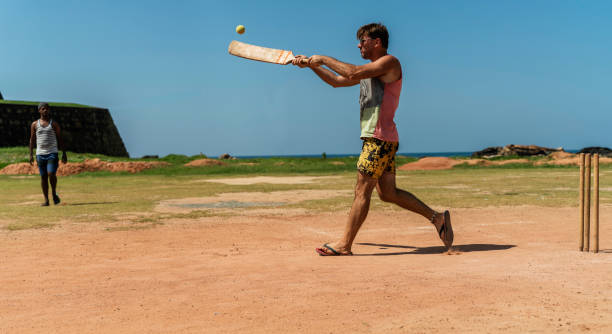bottom left: (228, 37, 237, 46)
bottom right: (224, 44, 239, 59)
top left: (287, 47, 295, 55)
top right: (280, 59, 291, 70)
